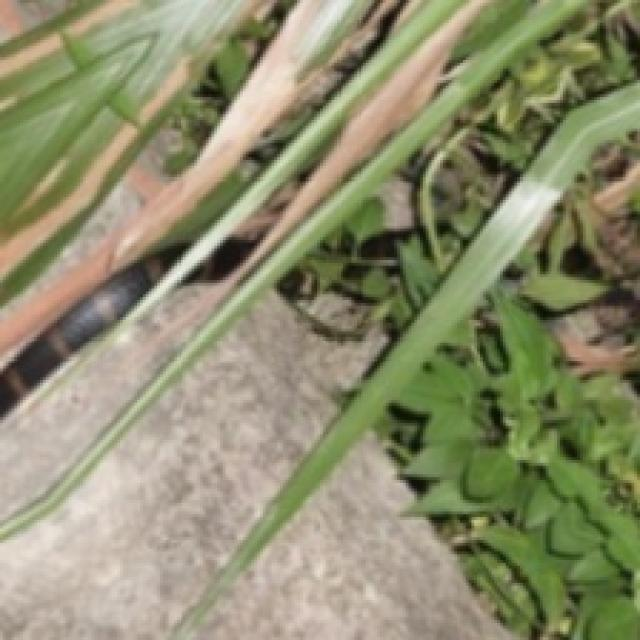king cobra: (0, 0, 637, 637), (0, 0, 291, 357), (0, 389, 280, 637), (0, 6, 143, 143), (163, 306, 260, 400), (77, 431, 157, 531), (283, 314, 351, 374)
